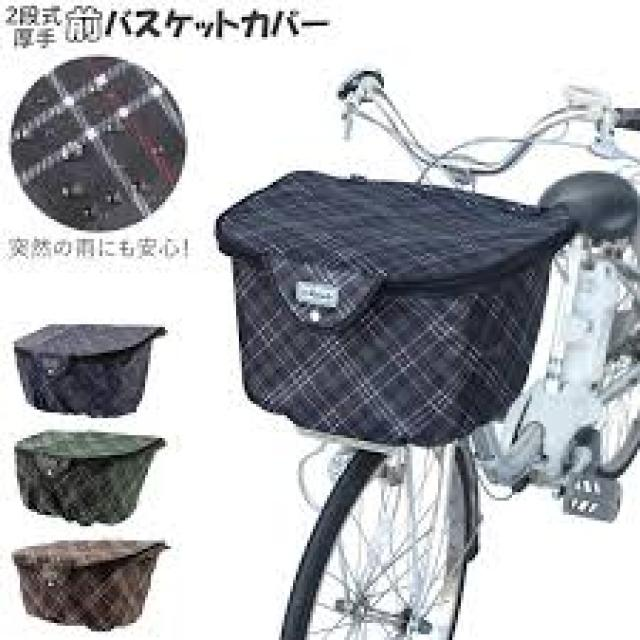basket: (212, 169, 572, 450), (8, 428, 169, 527), (13, 319, 166, 416), (8, 542, 169, 630)
